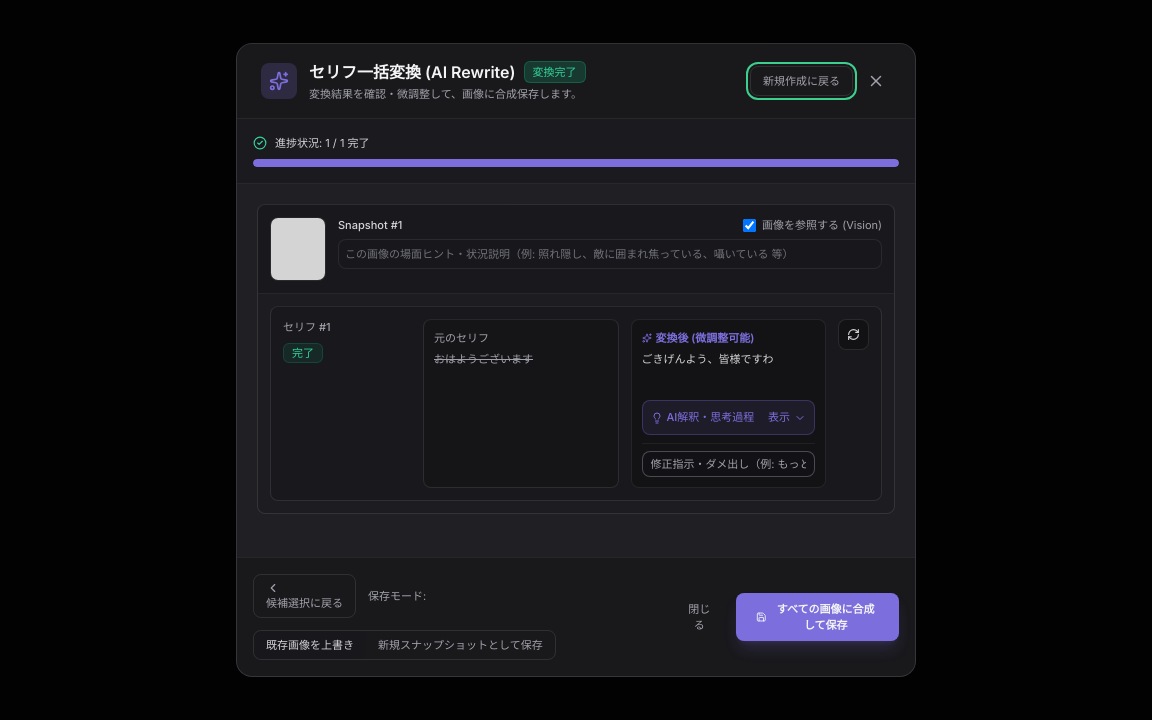
it: BatchSpeechTransformModal › displays thinking process accordion and toggles open/close for batch items
The image size is (1152, 720).
Expected: the text box "ごきげんよう、皆様ですわ" is shown, x1=642 y1=351 x2=815 y2=386
Expected: the element with test id "batch-item-thinking-1_b1" is shown, x1=642 y1=400 x2=815 y2=435
// Toggle open
What coordinates should you click on to do the following:
click the text "AI解釈・思考過程"
I would click on:
 (702, 418)
Its box is x1=650 y1=410 x2=754 y2=426.
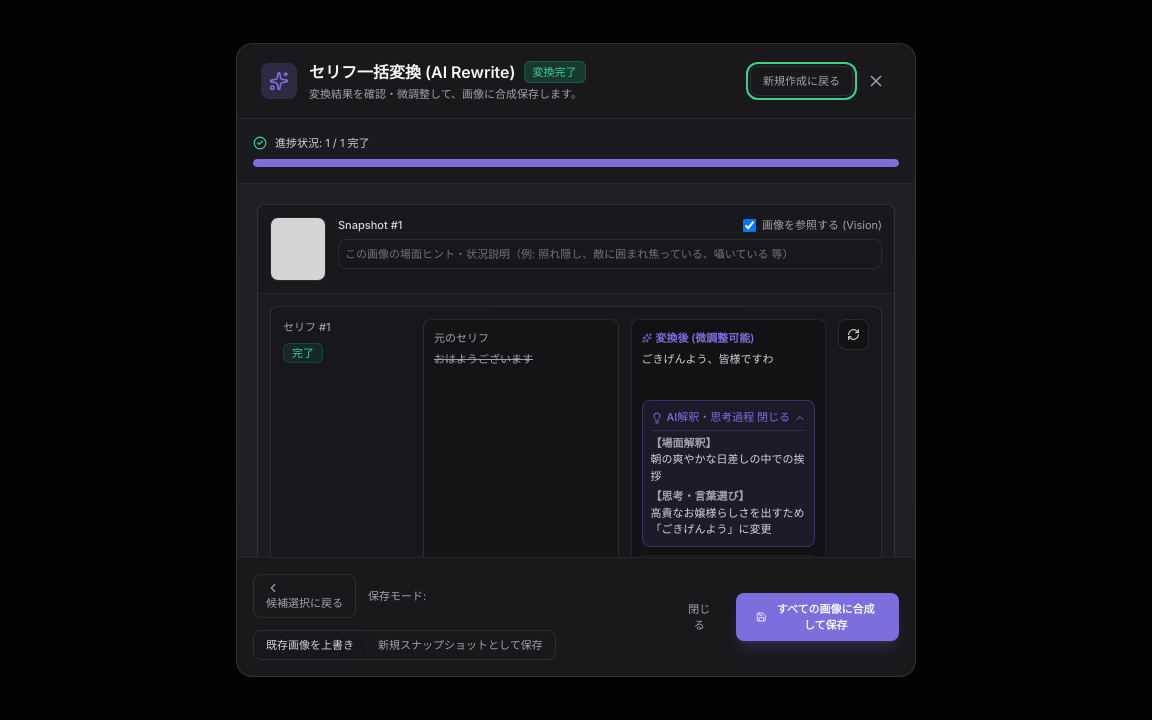
Now the text "朝の爽やかな日差しの中での挨拶" is shown, box x1=650 y1=452 x2=806 y2=484
Now the text "高貴なお嬢様らしさを出すため「ごきげんよう」に変更" is shown, box x1=650 y1=505 x2=806 y2=538
// Toggle close
What coordinates should you click on to do the following:
click the text "AI解釈・思考過程"
I would click on:
 (702, 418)
Its box is x1=650 y1=410 x2=754 y2=426.
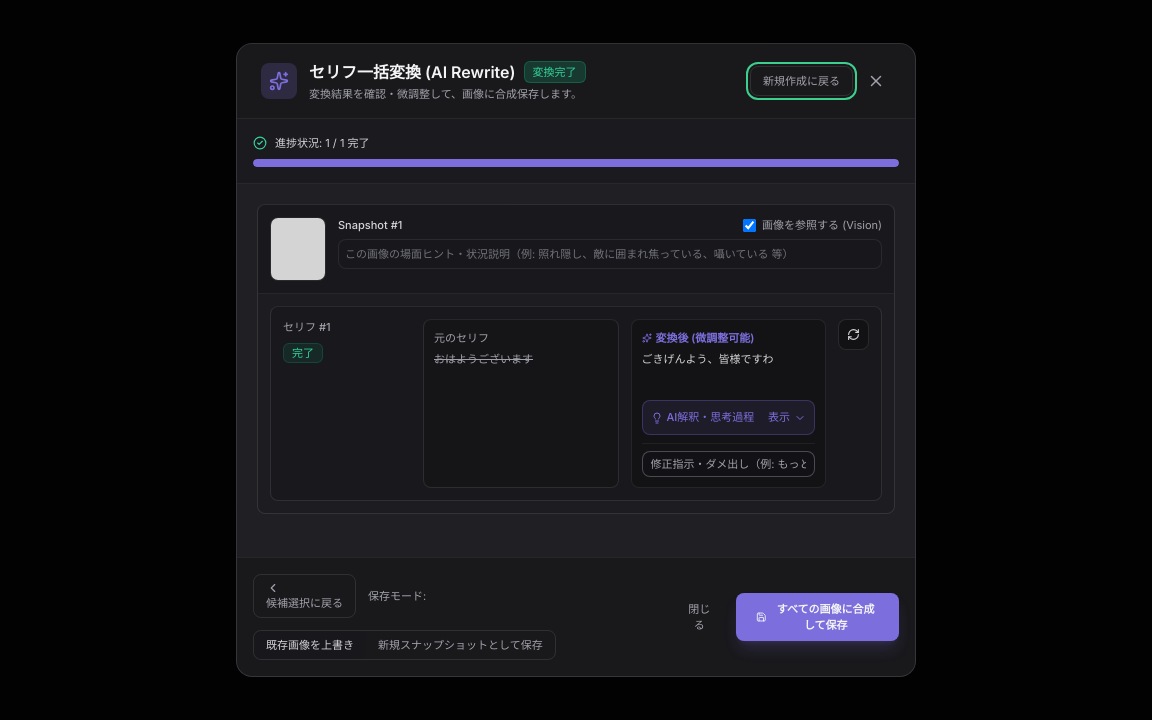
Now the text "朝の爽やかな日差しの中での挨拶" is gone
